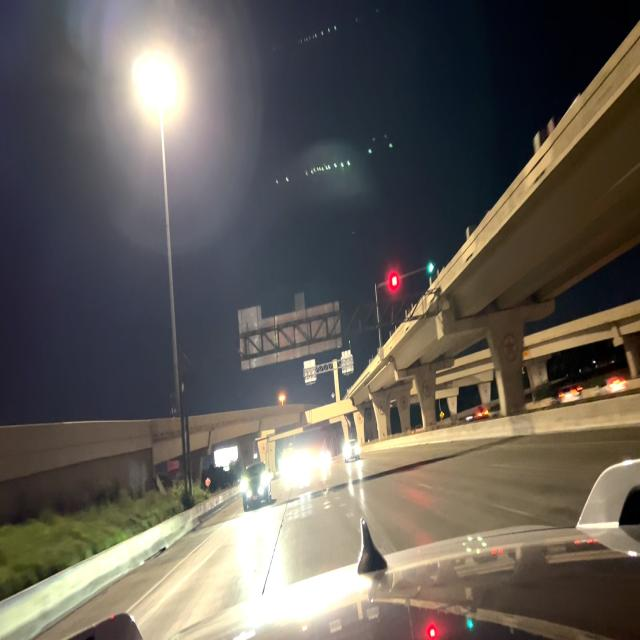back-of-sign: (239, 292, 341, 368)
